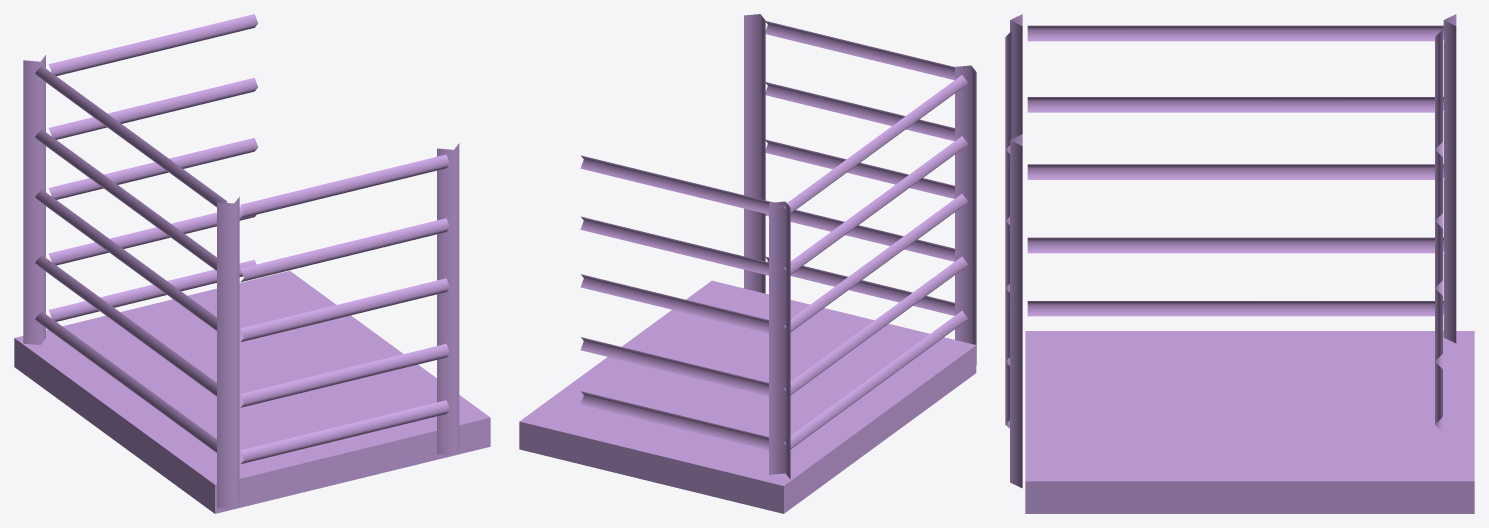
The model's file is G_Background_Platform_A.fbx.
3 renders of one model, left to right at view 1: azimuth 30°, elevation 25°; view 2: azimuth 150°, elevation 25°; view 3: azimuth 270°, elevation 25°, orthographic. The views are drawn at different scales.
Parts seen in each view (by area): view 1: G_Background_Platform_A; view 2: G_Background_Platform_A; view 3: G_Background_Platform_A.
Part boxes in pixels (x1,y1,x2,y2): G_Background_Platform_A: (14, 14, 490, 513); G_Background_Platform_A: (519, 14, 976, 513); G_Background_Platform_A: (1005, 14, 1474, 513).
Size of the model in its own units: 396 by 430 by 522.
